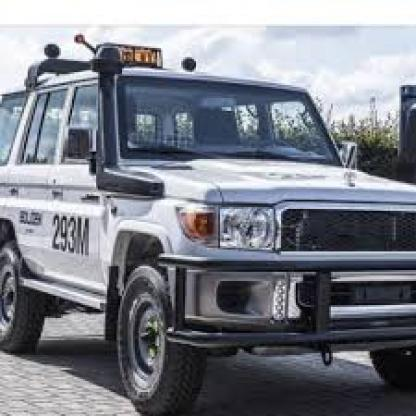light_vehicle: (4, 43, 414, 401)
